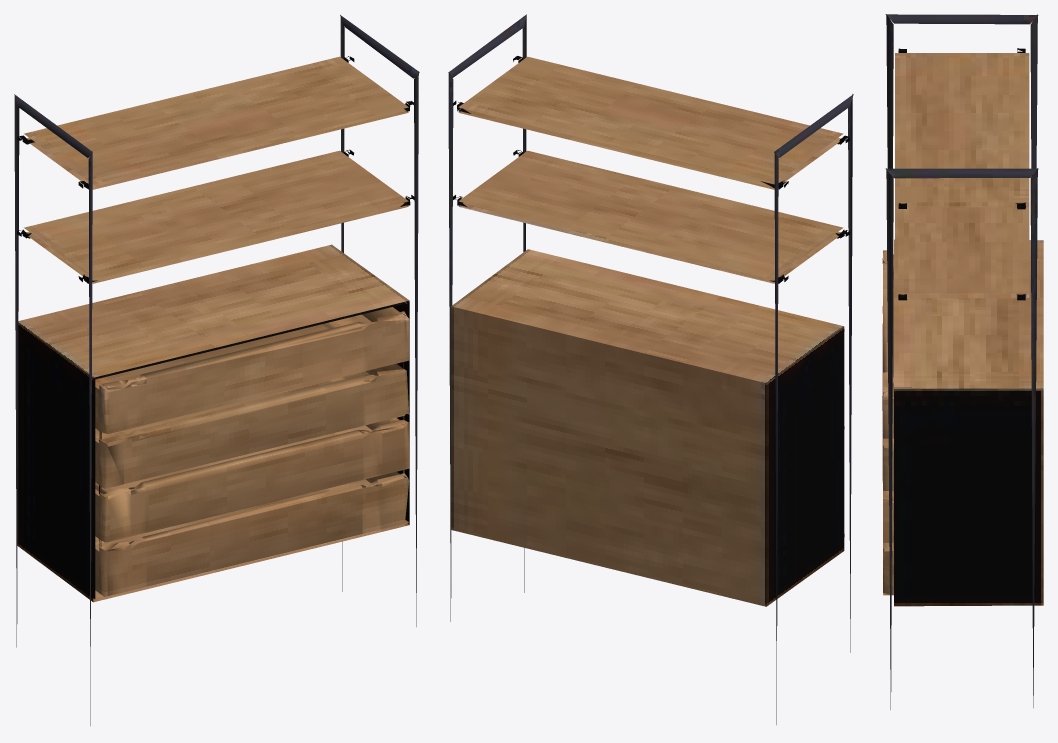
The model's file is drawer_cabinet.glb.
3 renders of one model, left to right at view 1: azimuth 30°, elevation 25°; view 2: azimuth 150°, elevation 25°; view 3: azimuth 270°, elevation 25°, orthographic. The views are drawn at different scales.
Visible parts, largest first — view 1: drawer_cabinet; view 2: drawer_cabinet; view 3: drawer_cabinet.
Part boxes in pixels (<box>): drawer_cabinet: <box>14,15,419,725</box>; drawer_cabinet: <box>448,14,853,724</box>; drawer_cabinet: <box>882,14,1043,709</box>.
Bounding box in the file's own units: 1.13 × 1.88 × 0.4902.
1 material, 1 textured.
